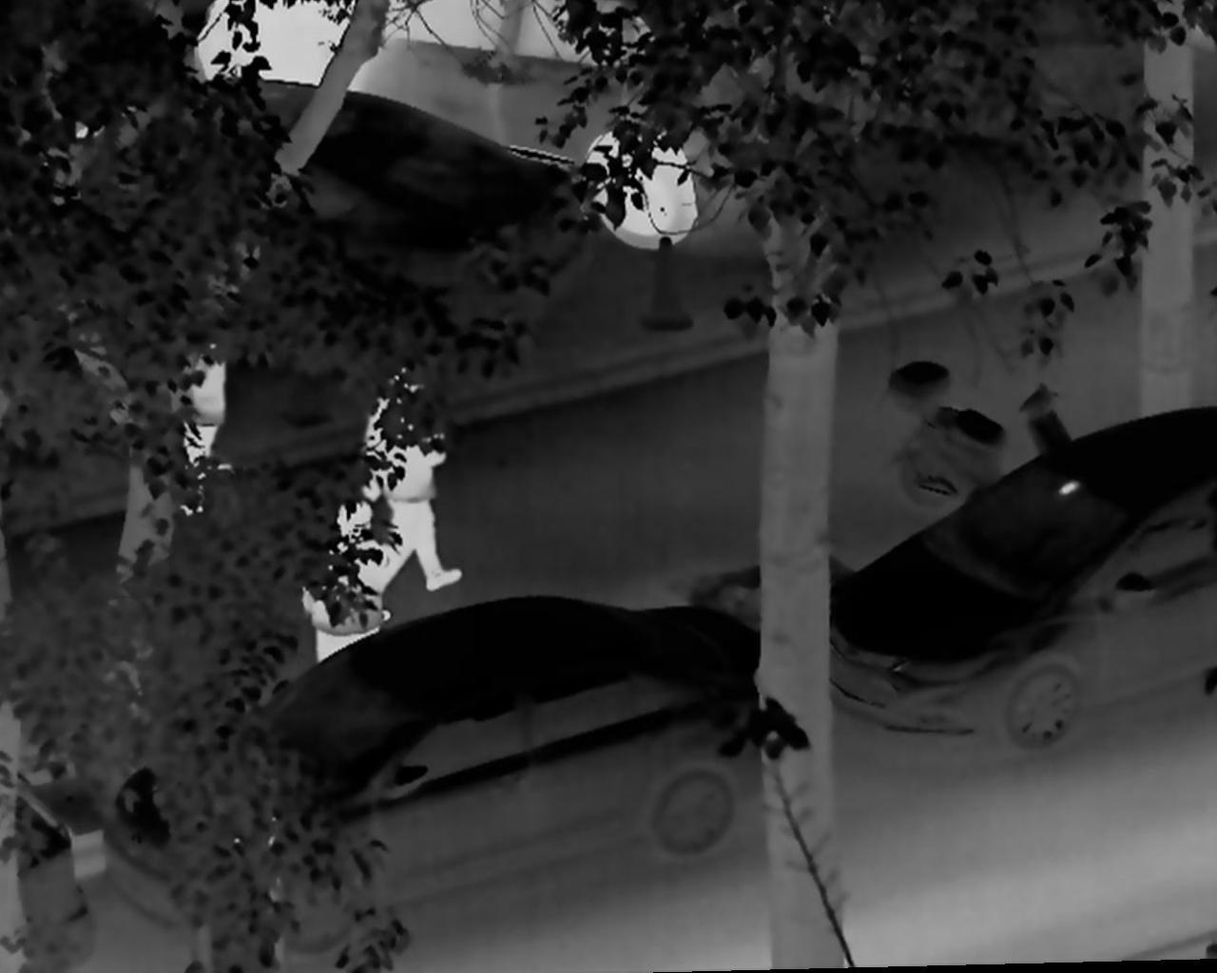person: (360, 344, 465, 599), (299, 501, 390, 675), (172, 312, 241, 524)
